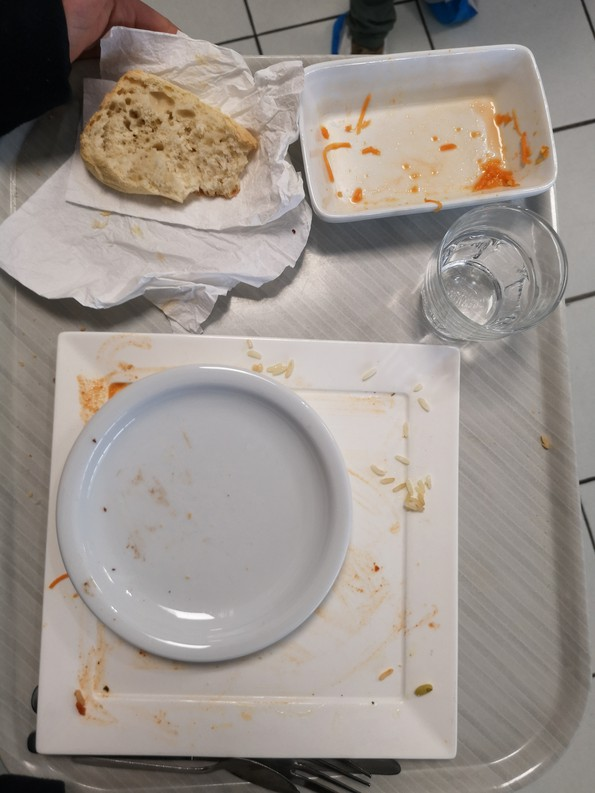cup: (405, 186, 575, 348)
cutlery: (50, 759, 419, 793)
orga: (86, 82, 251, 203)
trash: (10, 179, 322, 321)
